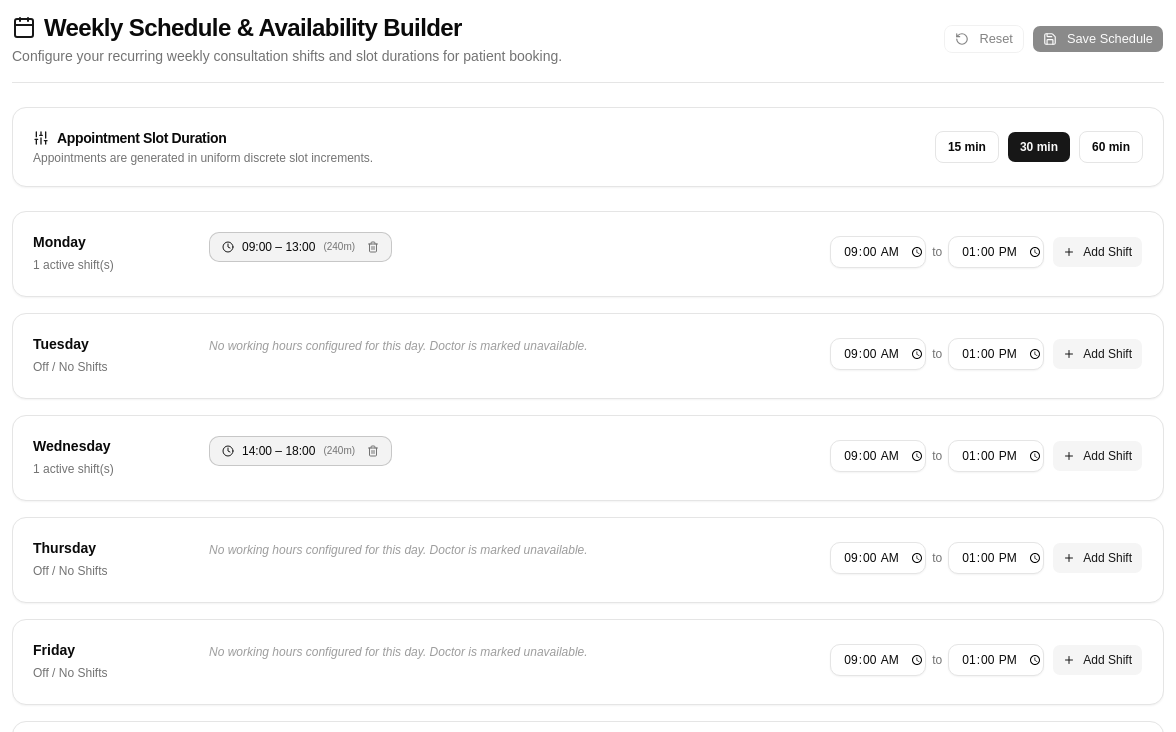
Milestone 13 — Task 13.4: Doctor Portal Views › Weekly Availability Settings (AvailabilitySettingsPage) › 6. rejects shift where start time is not earlier than end time
This screenshot has width=1176, height=732.
Check: the element with test id "shift-chip-monday-0" is shown, box [209, 232, 392, 262]
Replace the text in the time field with test id "shift-start-tuesday" with "15:00": x=878, y=354 [830, 338, 926, 370]
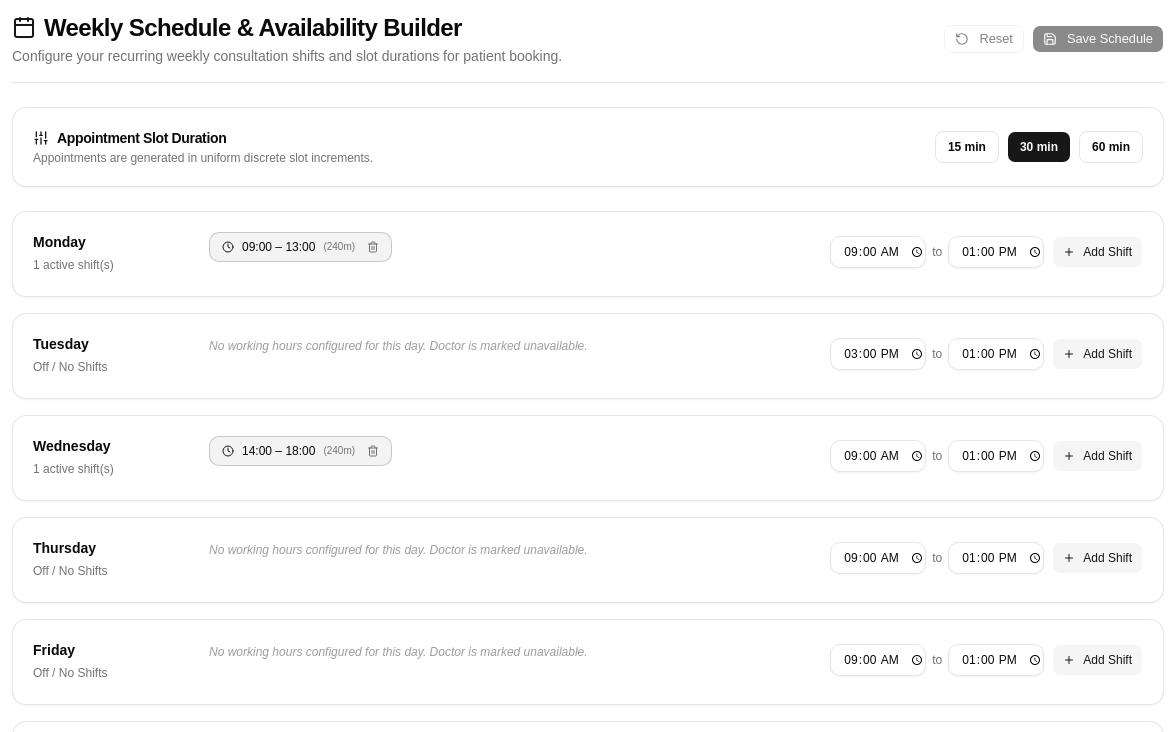
Replace the text in the time field with test id "shift-end-tuesday" with "12:00": x=996, y=354 [948, 338, 1044, 370]
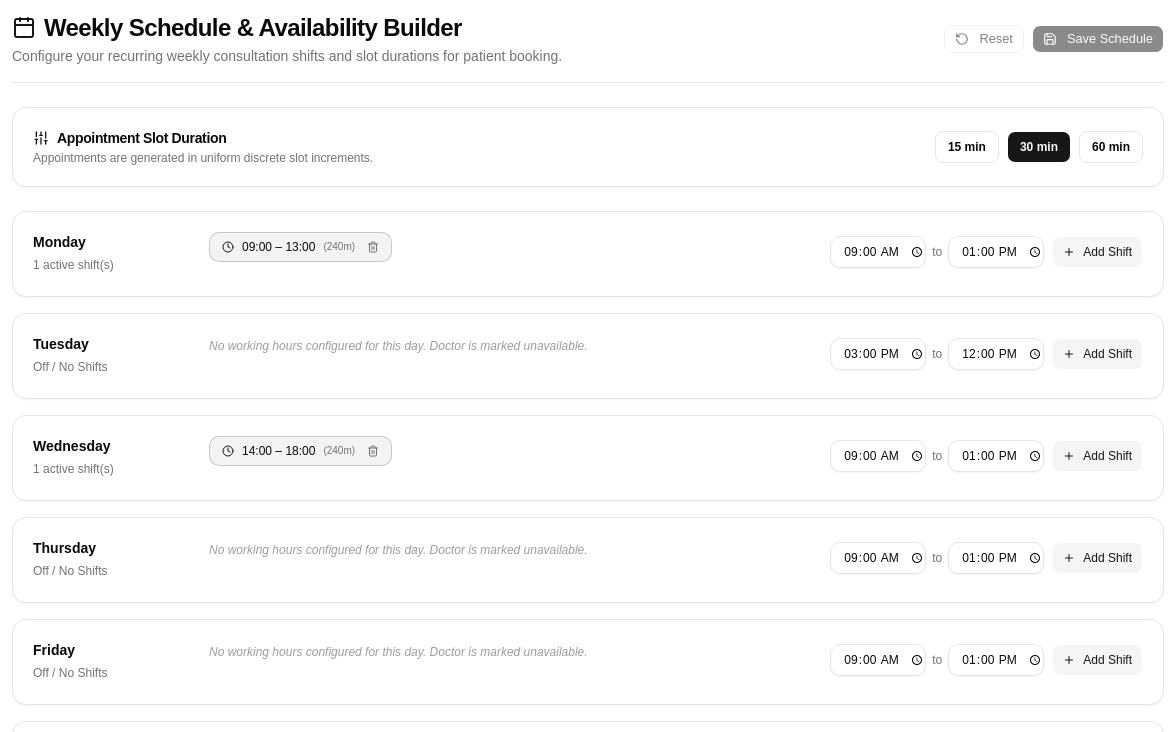
Click the button with test id "add-shift-btn-tuesday": x=1098, y=354 [1052, 338, 1143, 370]
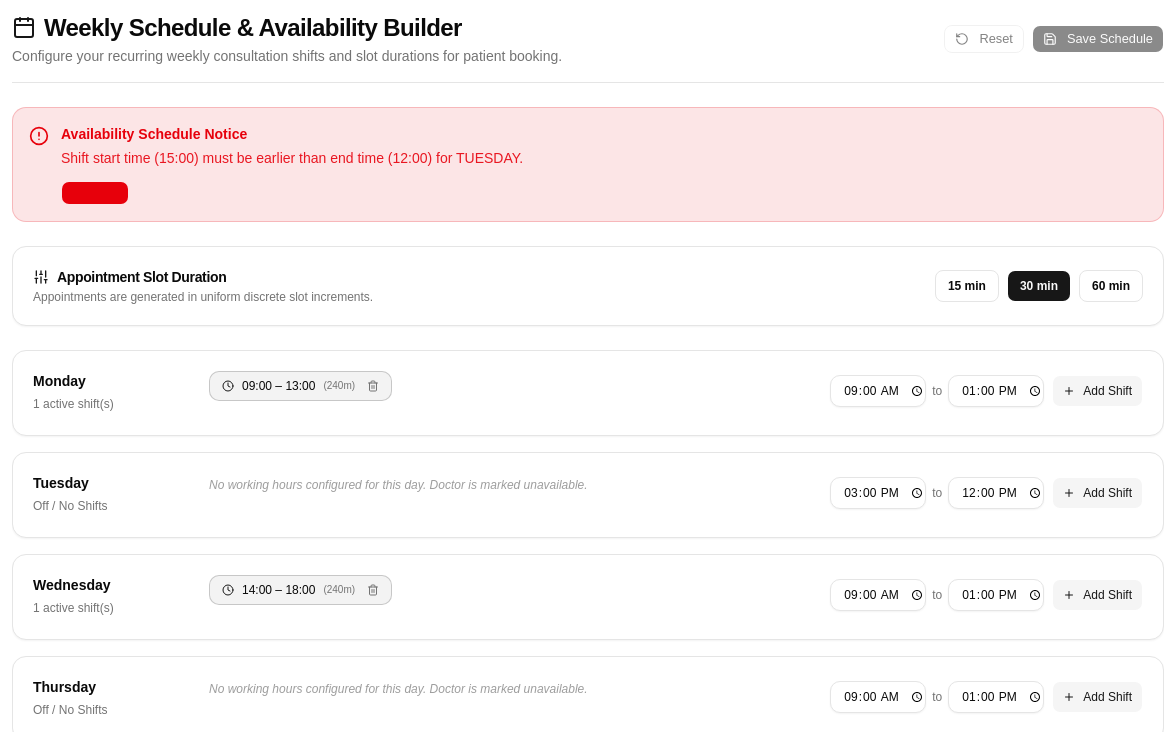
Check: the message with test id "availability-error-alert" is shown, box [12, 107, 1164, 222]
Check: the text "must be earlier than end time" is shown, box [61, 150, 523, 166]
